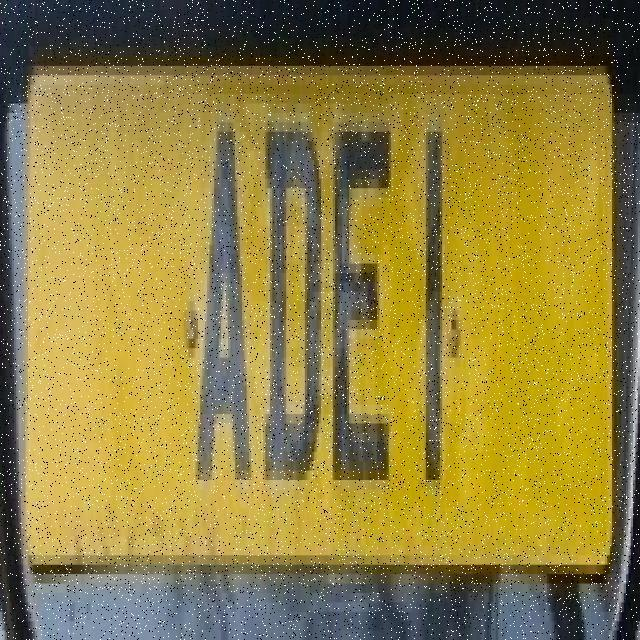LicensePlate: (13, 12, 623, 628)
